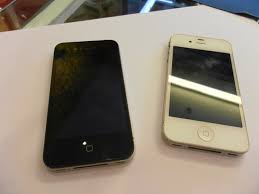iphone: (159, 27, 252, 157), (42, 39, 135, 169)
iphone4: (159, 26, 252, 156), (42, 38, 135, 168)
